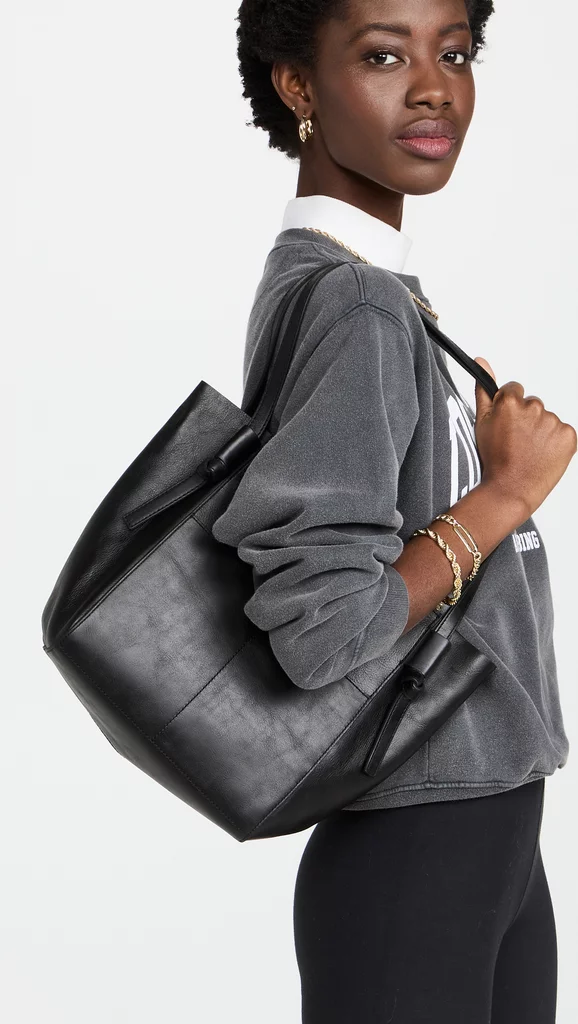cartera: (48, 381, 498, 847)
cuero: (48, 380, 500, 851)
